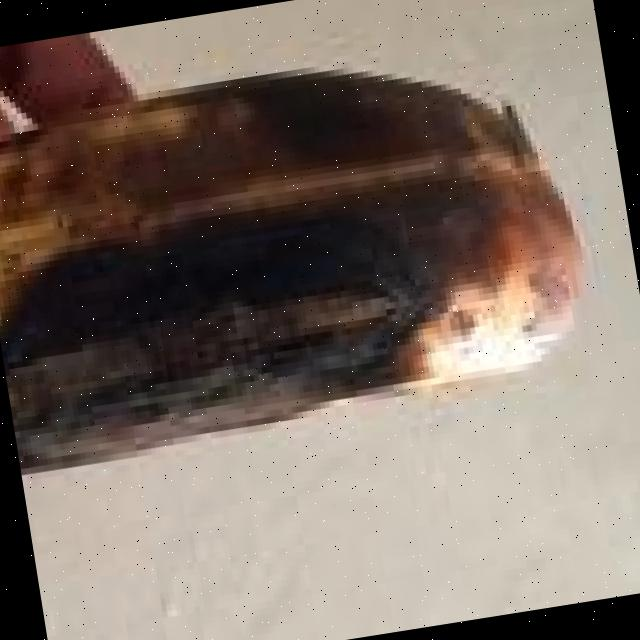Bad_Banana-0 day: (0, 73, 580, 471)
